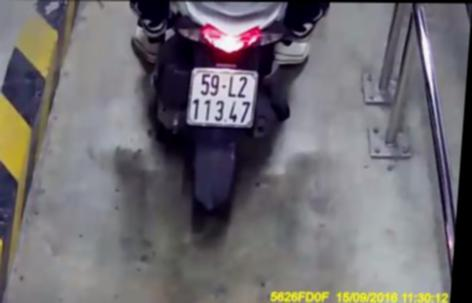License_Plate: (176, 64, 267, 137)
